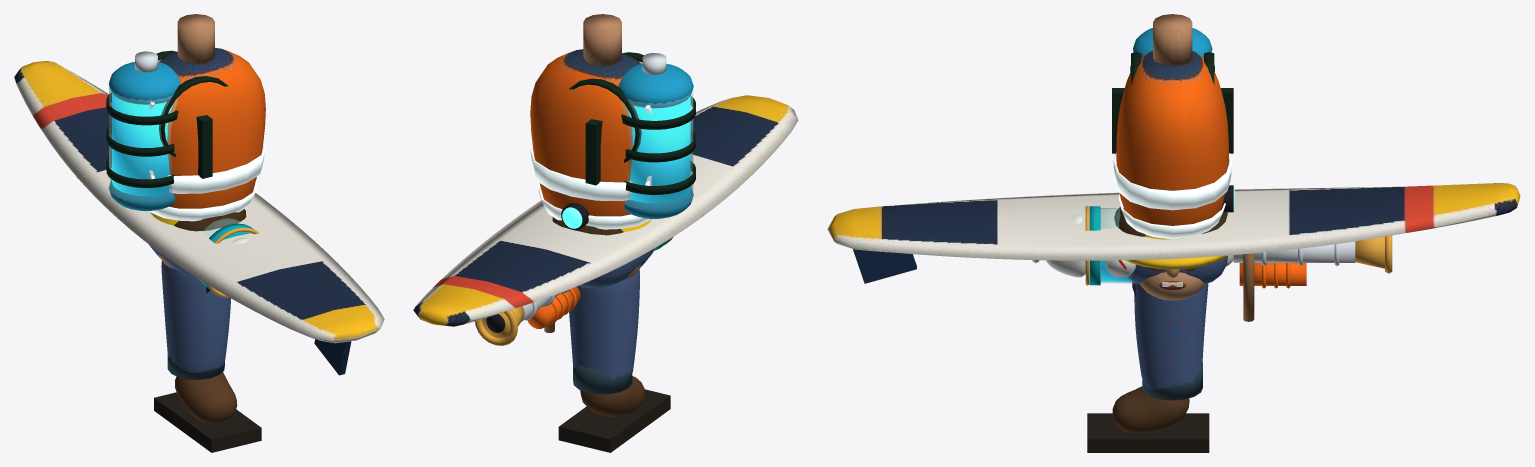
File: builder.glb
3 views of the same model, side by side, from view 1: azimuth 30°, elevation 25°; view 2: azimuth 150°, elevation 25°; view 3: azimuth 270°, elevation 25° (orthographic). The views are drawn at different scales.
Visible parts, largest first — view 1: board, torso, tank, shin, thigh, tankwater, cannon, pelvis; view 2: board, torso, tank, shin, thigh, tankwater, cannon, pelvis; view 3: board, torso, cannon, shin, thigh, head, tank, pelvis.
Boxes of the visible parts, x1,y1,x2,y2 form: board: [14, 61, 384, 375]; torso: [149, 14, 265, 221]; tank: [106, 50, 228, 211]; shin: [154, 355, 261, 452]; thigh: [161, 261, 230, 373]; tankwater: [112, 93, 172, 196]; cannon: [76, 177, 258, 297]; pelvis: [148, 209, 246, 276]; board: [413, 95, 798, 326]; torso: [530, 14, 651, 229]; tank: [569, 52, 695, 218]; shin: [558, 365, 670, 452]; thigh: [569, 269, 639, 394]; tankwater: [627, 96, 690, 203]; cannon: [475, 203, 673, 345]; pelvis: [544, 217, 653, 332]; board: [827, 183, 1520, 283]; torso: [1113, 14, 1231, 239]; cannon: [1032, 185, 1392, 297]; shin: [1087, 362, 1209, 452]; thigh: [1134, 282, 1208, 400]; head: [1125, 234, 1227, 300]; tank: [1112, 28, 1233, 153]; pelvis: [1114, 207, 1254, 321].
Size of the model in its own units: 0.604 by 1.51 by 2.28.
Materials: 13 (11 with a texture image).
